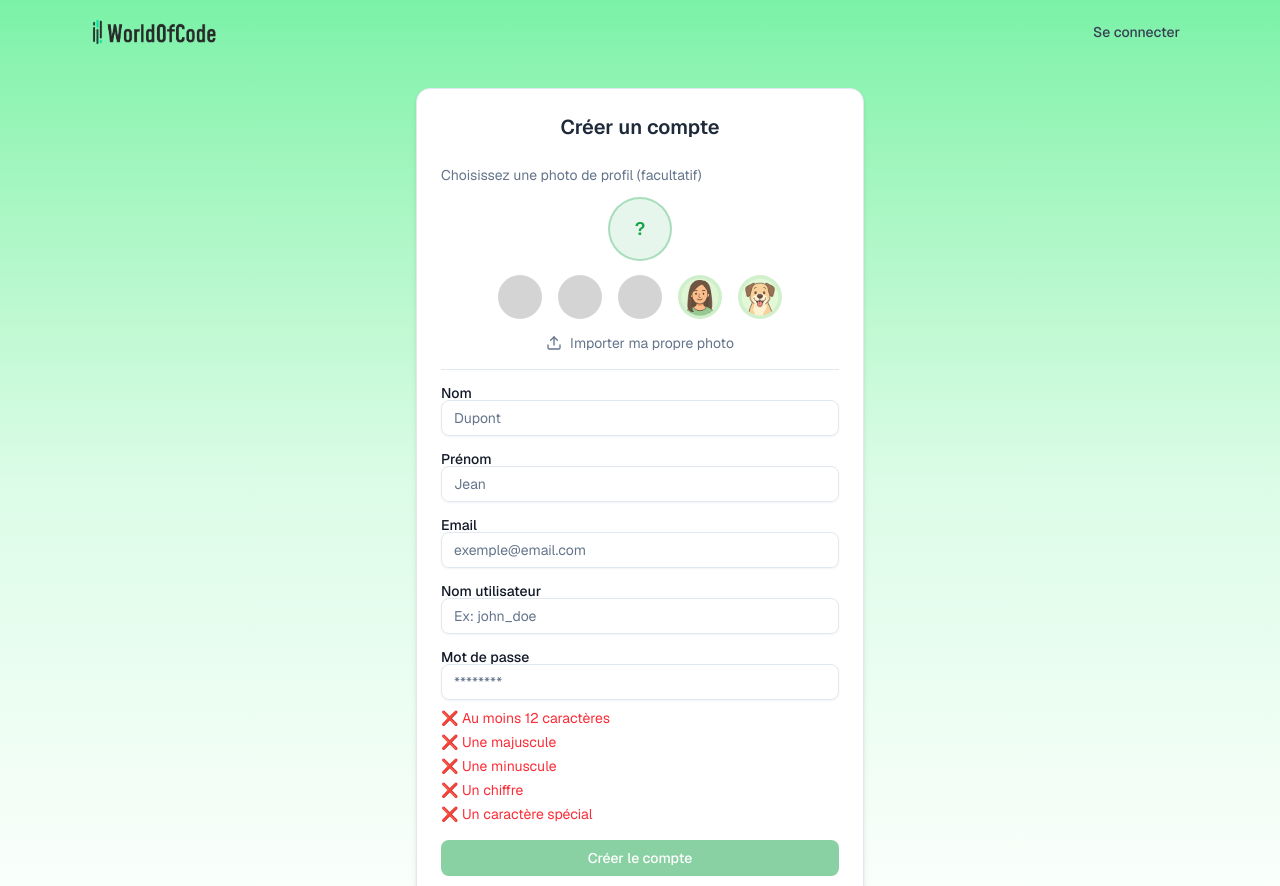
Test: RegisterPage › affiche les erreurs de validation quand les champs sont vides
# Remplir un password valide pour activer le bouton
Type "StrongPass1234!" into the password field labelled "Mot de passe". click: (640, 682)
box: 441,664 -> 839,700
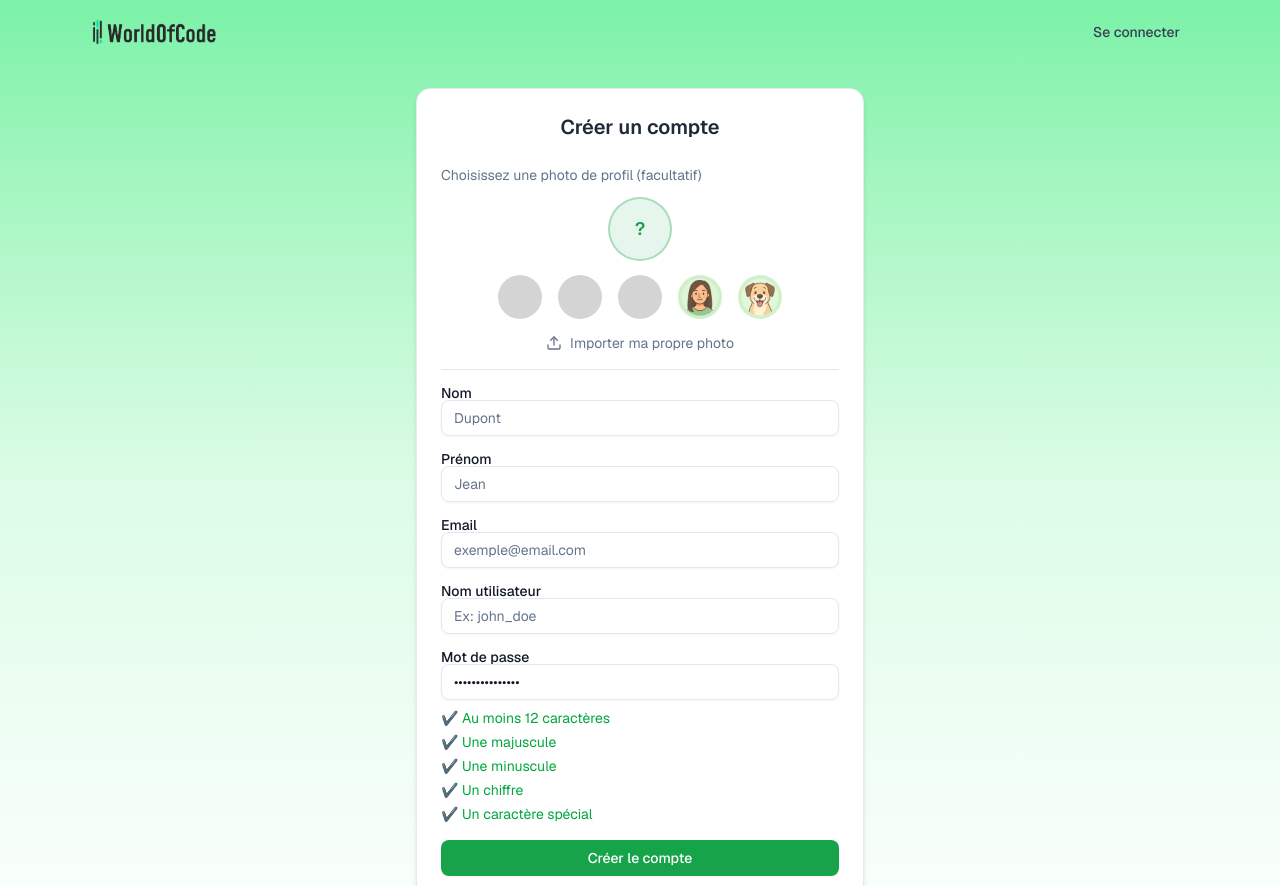
Click the button "Créer le compte". click: (640, 858)
box: 441,840 -> 839,876
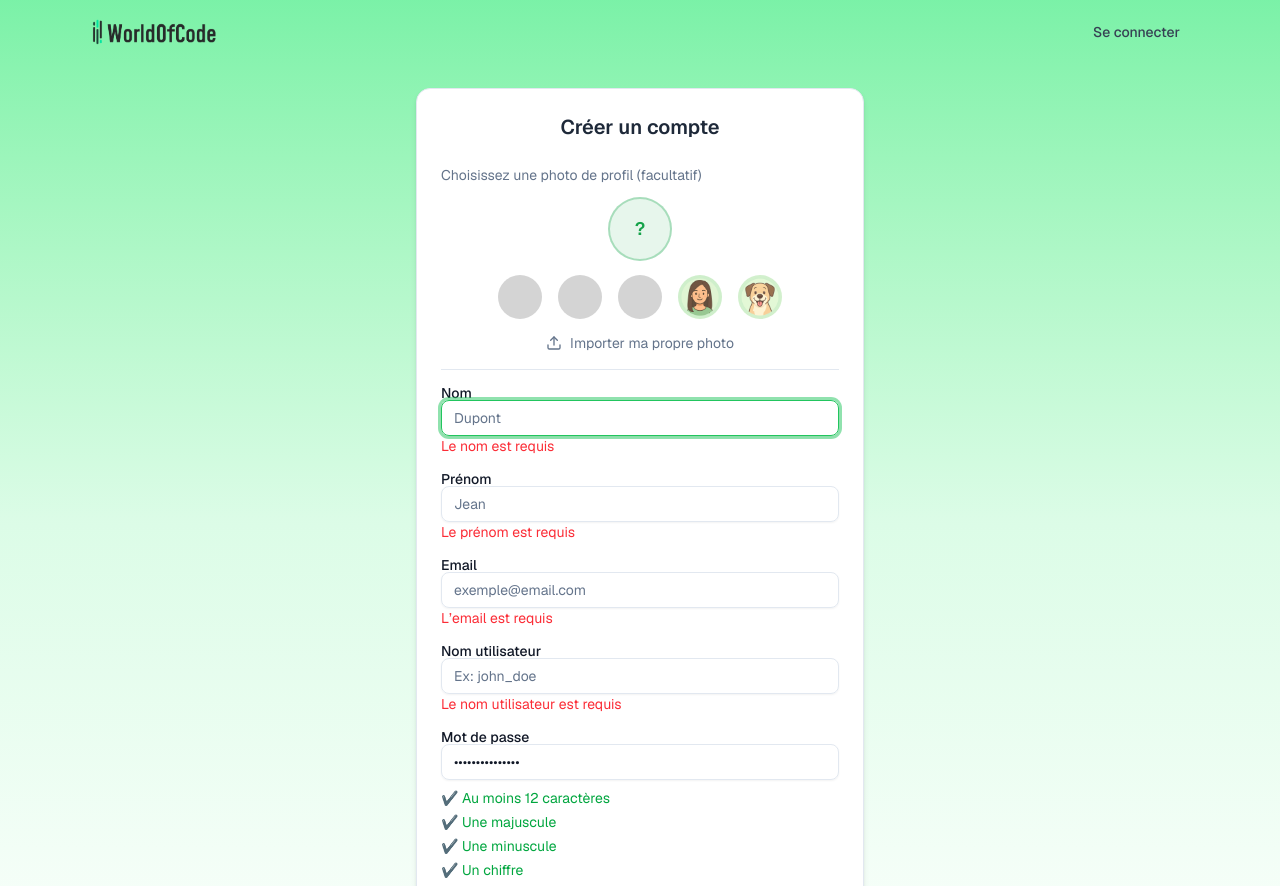
expect the text "Le nom est requis" is shown: met, box 441,437 -> 554,455
